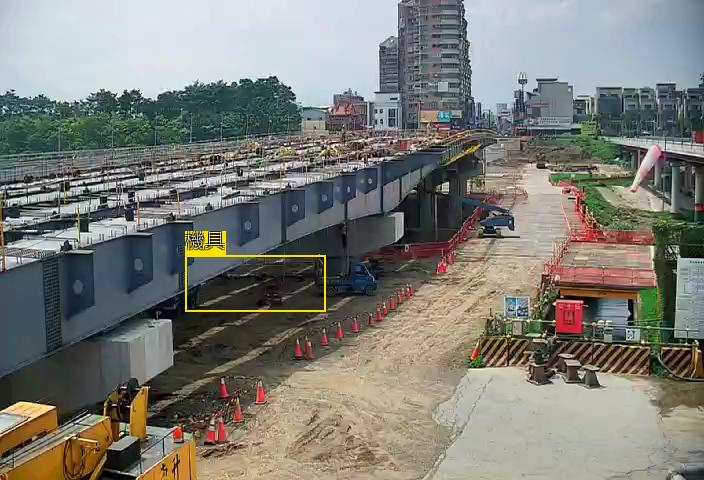Safety Cone: (216, 411, 228, 444), (204, 414, 215, 446), (231, 397, 244, 423), (255, 380, 266, 404), (219, 378, 229, 400), (293, 339, 303, 359), (306, 341, 314, 359), (336, 322, 344, 338), (321, 328, 328, 346), (351, 317, 358, 333), (303, 335, 308, 355), (367, 313, 374, 326), (383, 303, 389, 315), (376, 308, 381, 321), (390, 297, 395, 309), (396, 293, 401, 304), (405, 286, 410, 297), (401, 289, 405, 301), (410, 285, 414, 296)
machinery: (0, 379, 197, 480), (414, 187, 515, 237), (319, 260, 376, 295)
